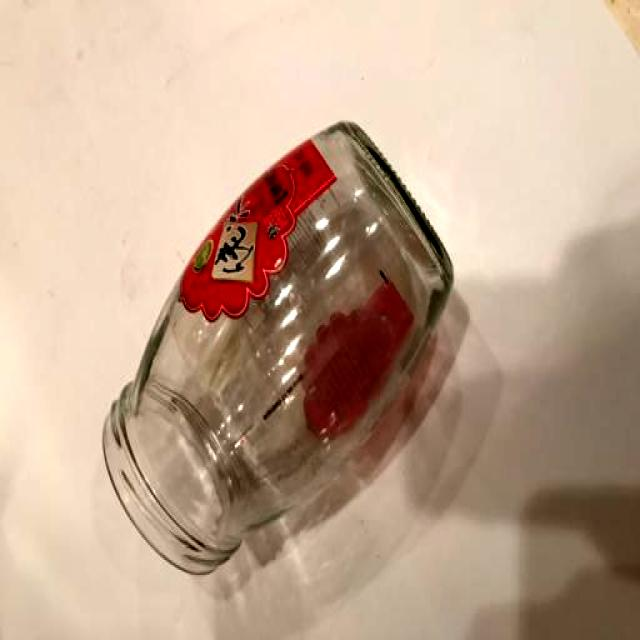Glass: (96, 110, 465, 587)
